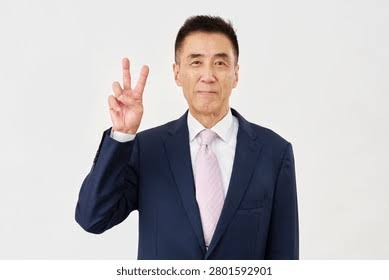peace_sign: (105, 56, 150, 132)
